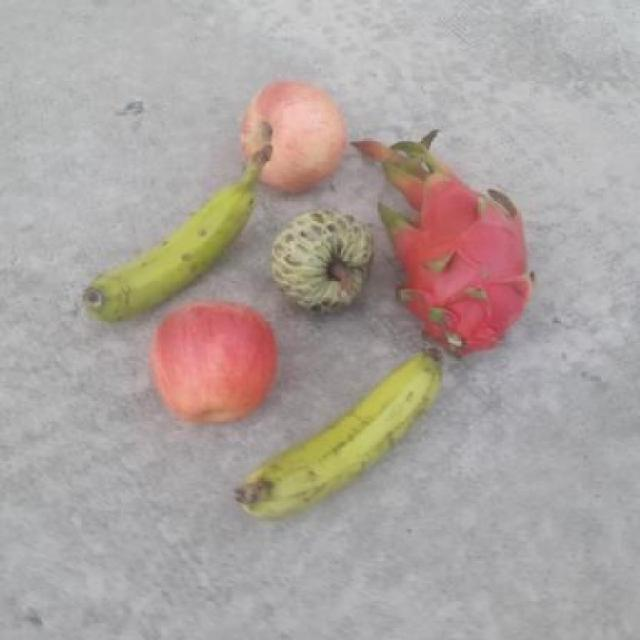apple: (148, 300, 281, 426), (238, 77, 350, 194)
banana: (237, 347, 446, 516), (79, 144, 275, 324)
dragon fruit: (392, 159, 539, 361)
sugar apple: (272, 208, 376, 312)
